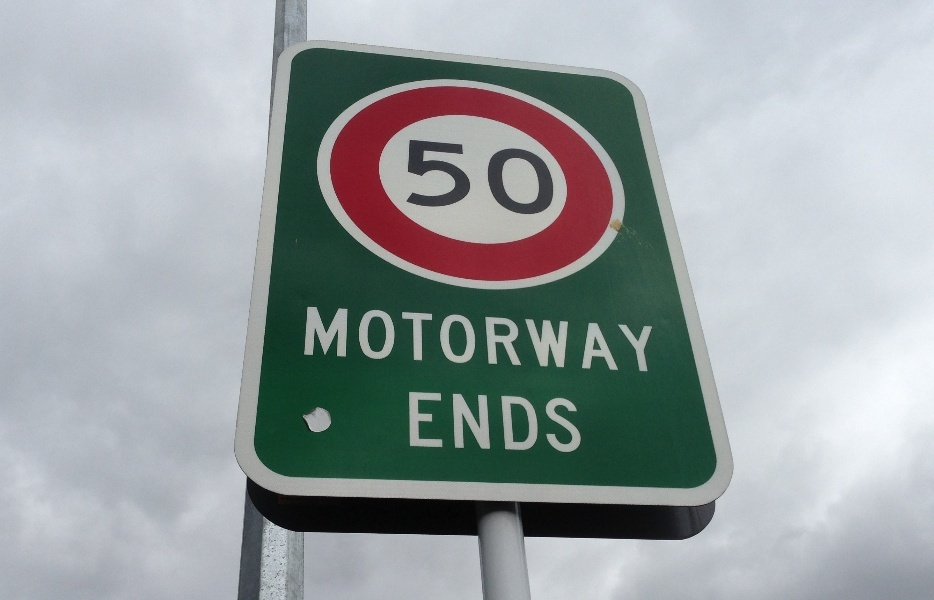text: (417, 140, 432, 218), (433, 140, 448, 218), (449, 140, 464, 218), (465, 140, 480, 218), (481, 140, 496, 218), (497, 140, 512, 218), (513, 140, 528, 218), (529, 140, 544, 218), (321, 306, 336, 374), (337, 306, 352, 374), (353, 306, 368, 374), (369, 306, 384, 374), (385, 306, 400, 374), (401, 306, 416, 374), (417, 306, 432, 374), (433, 306, 448, 374), (449, 306, 464, 374), (465, 306, 480, 374), (481, 306, 496, 374), (497, 306, 512, 374), (513, 306, 528, 374), (529, 306, 544, 374), (545, 306, 560, 374), (561, 306, 576, 374), (577, 306, 592, 374), (593, 306, 608, 374), (609, 306, 624, 374), (625, 306, 640, 374), (641, 306, 656, 374), (417, 392, 432, 454), (433, 392, 448, 454), (449, 392, 464, 454), (465, 392, 480, 454), (481, 392, 496, 454), (497, 392, 512, 454), (513, 392, 528, 454), (529, 392, 544, 454), (545, 392, 560, 454), (561, 392, 576, 454), (545, 140, 556, 218), (308, 306, 320, 374), (410, 140, 416, 218), (577, 392, 584, 454), (410, 392, 416, 454), (657, 306, 662, 374)
